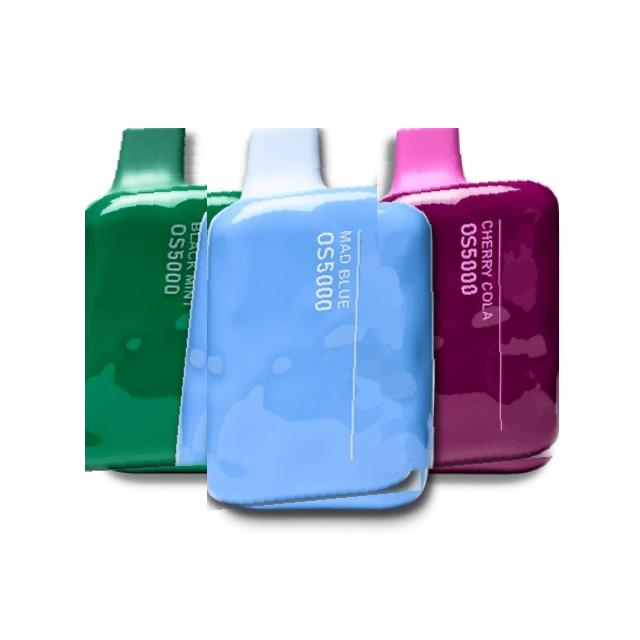Vapes: (207, 128, 432, 512), (376, 128, 559, 474), (85, 128, 243, 474)
